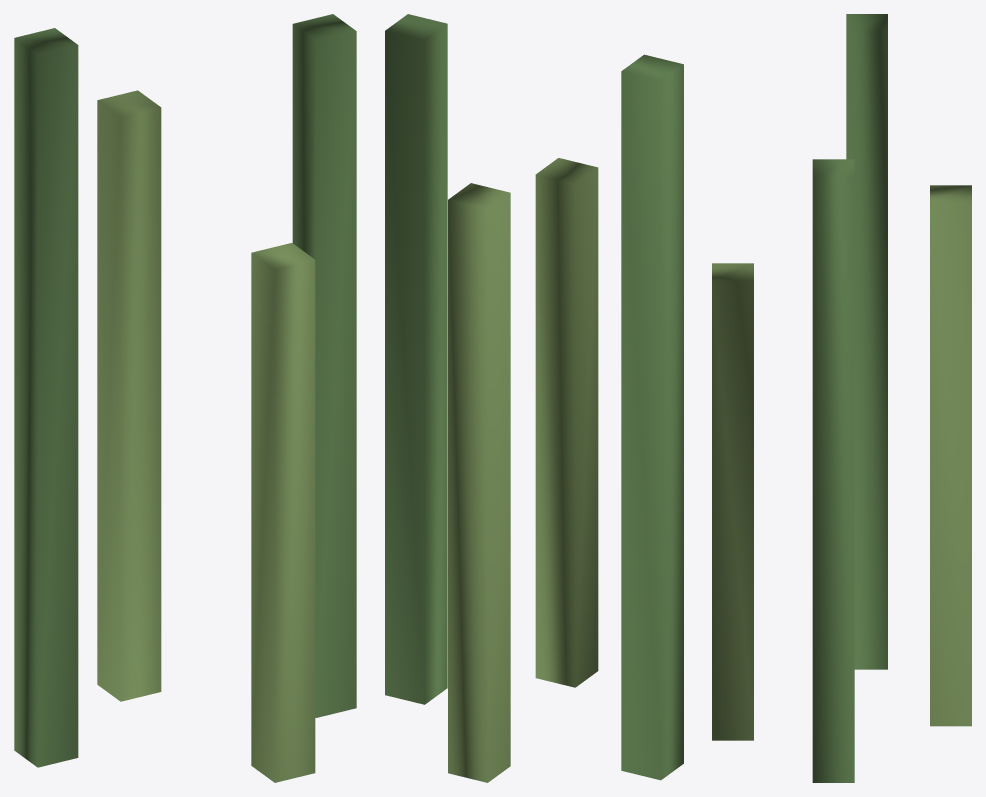
Rendered from grass_tuft.glb.
3 renders of one model, left to right at view 1: azimuth 30°, elevation 25°; view 2: azimuth 150°, elevation 25°; view 3: azimuth 270°, elevation 25°, orthographic. The views are drawn at different scales.
Visible parts, largest first — view 1: grass_tuft; view 2: grass_tuft; view 3: grass_tuft.
Boxes of the visible parts, x1=… form: grass_tuft: x1=14, y1=14, x2=356, y2=782; grass_tuft: x1=385, y1=14, x2=683, y2=782; grass_tuft: x1=712, y1=14, x2=971, y2=782.
Bounding box in the file's own units: 0.185 × 0.42 × 0.155.
